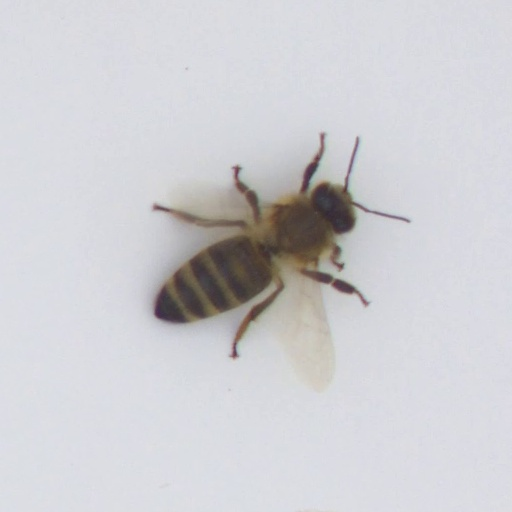Bee: (135, 174, 371, 340)
Thorax: (261, 193, 335, 262)
